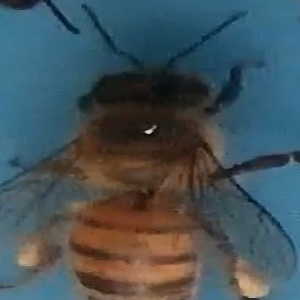bee: (7, 46, 298, 300)
